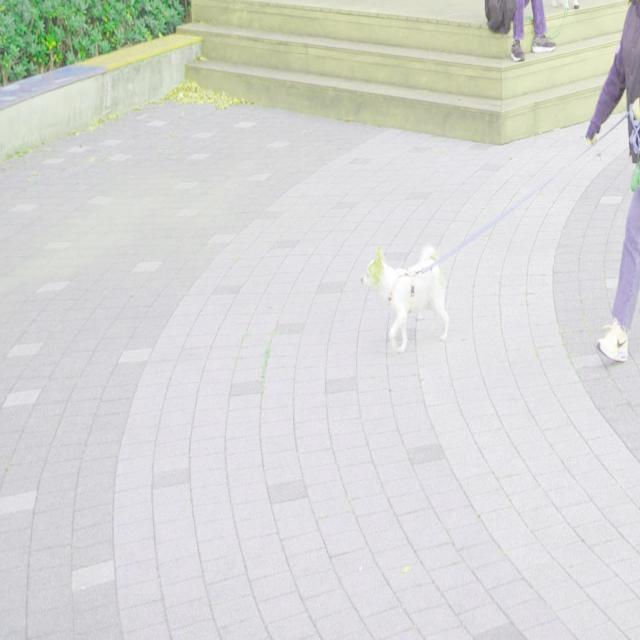Leashed_Dog: (361, 103, 640, 354)
